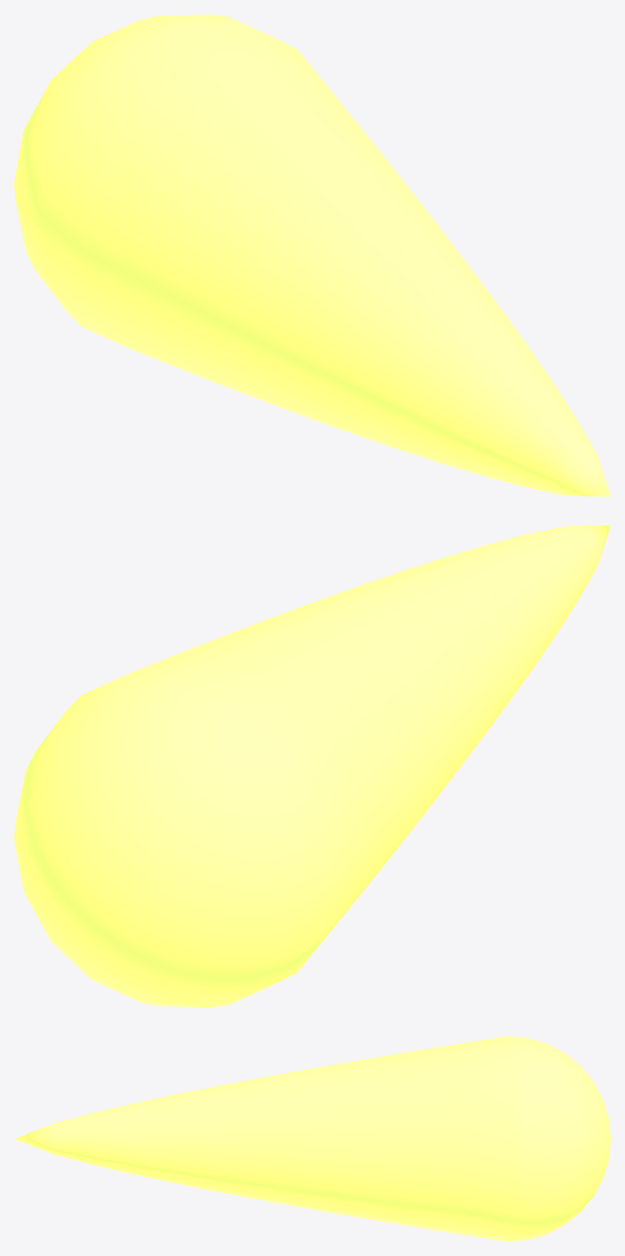
Rendered from GasBolt.fbx.
3 renders of one model, top to bottom at view 1: azimuth 30°, elevation 25°; view 2: azimuth 150°, elevation 25°; view 3: azimuth 270°, elevation 25°, orthographic. The views are drawn at different scales.
Parts seen in each view (by area): view 1: GasBolt; view 2: GasBolt; view 3: GasBolt.
Boxes of the visible parts, left/top/right/bottom form: GasBolt: left=14, top=14, right=610, bottom=496; GasBolt: left=14, top=525, right=610, bottom=1007; GasBolt: left=14, top=1036, right=610, bottom=1241.
Bounding box in the file's own units: 1 × 1 × 2.9.
